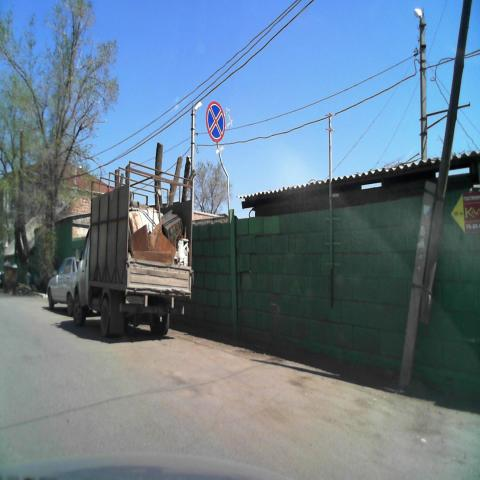3_27: (206, 101, 225, 143)
